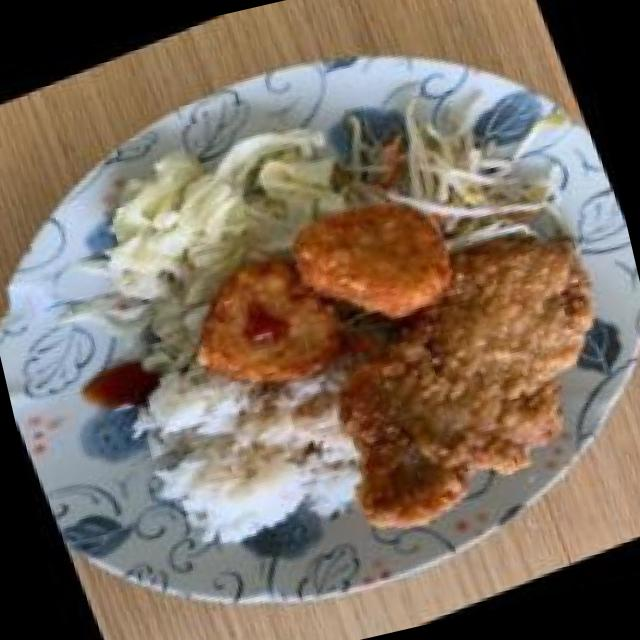chinese_cabbage: (107, 127, 350, 301)
fried_chicken: (315, 237, 640, 536)
mung_bean_sprouts: (376, 100, 539, 266)
rice: (150, 361, 368, 559)
triangle_hash_brown: (174, 190, 450, 394)
